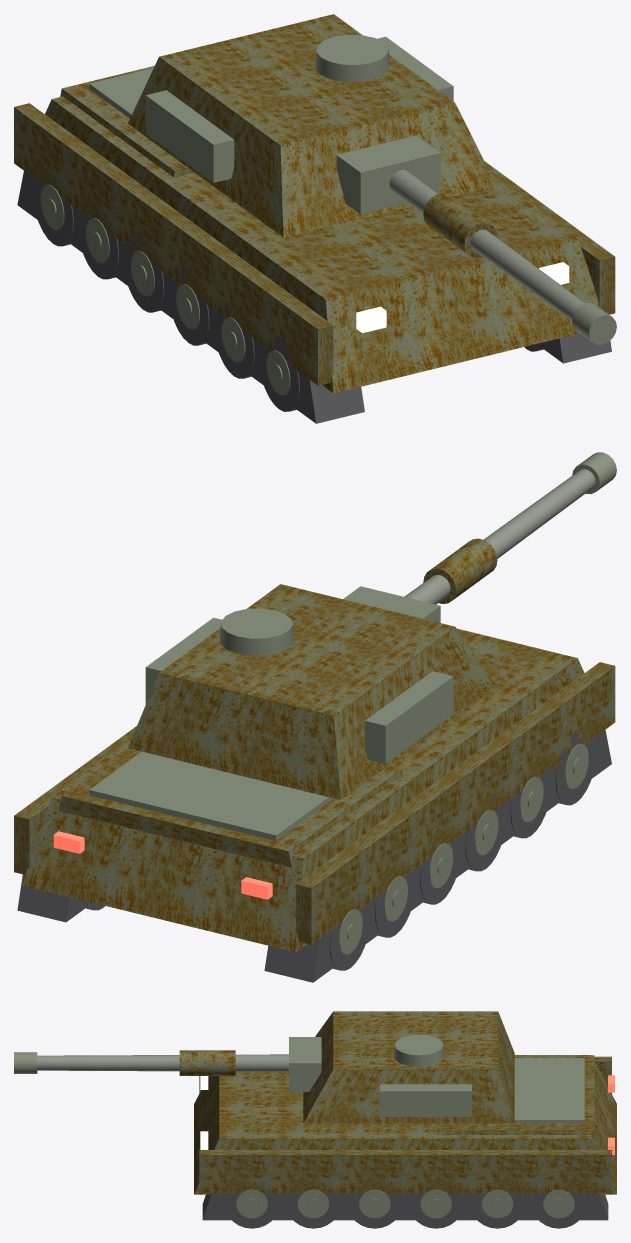
The model's file is vehicle_tank.glb.
The picture shows the model from 3 angles, top to bottom: view 1: azimuth 30°, elevation 25°; view 2: azimuth 150°, elevation 25°; view 3: azimuth 270°, elevation 25°; orthographic projection. The views are drawn at different scales.
Visible parts, largest first — view 1: TankRoot, Turret; view 2: TankRoot, Turret; view 3: TankRoot, Turret.
Part boxes in pixels (x1=…): TankRoot: x1=14, y1=66, x2=615, y2=423; Turret: x1=128, y1=14, x2=616, y2=344; TankRoot: x1=14, y1=628, x2=615, y2=982; Turret: x1=128, y1=452, x2=616, y2=799; TankRoot: x1=194, y1=1055, x2=616, y2=1228; Turret: x1=14, y1=1011, x2=514, y2=1123.
Size of the model in its own units: 3.47 by 2.43 by 8.84.
Materials: 6 (1 with a texture image).
